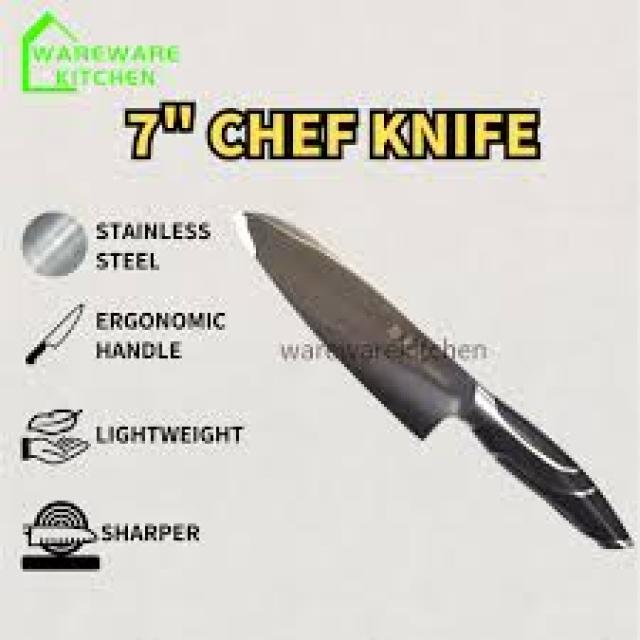Knife: (233, 210, 634, 543)
